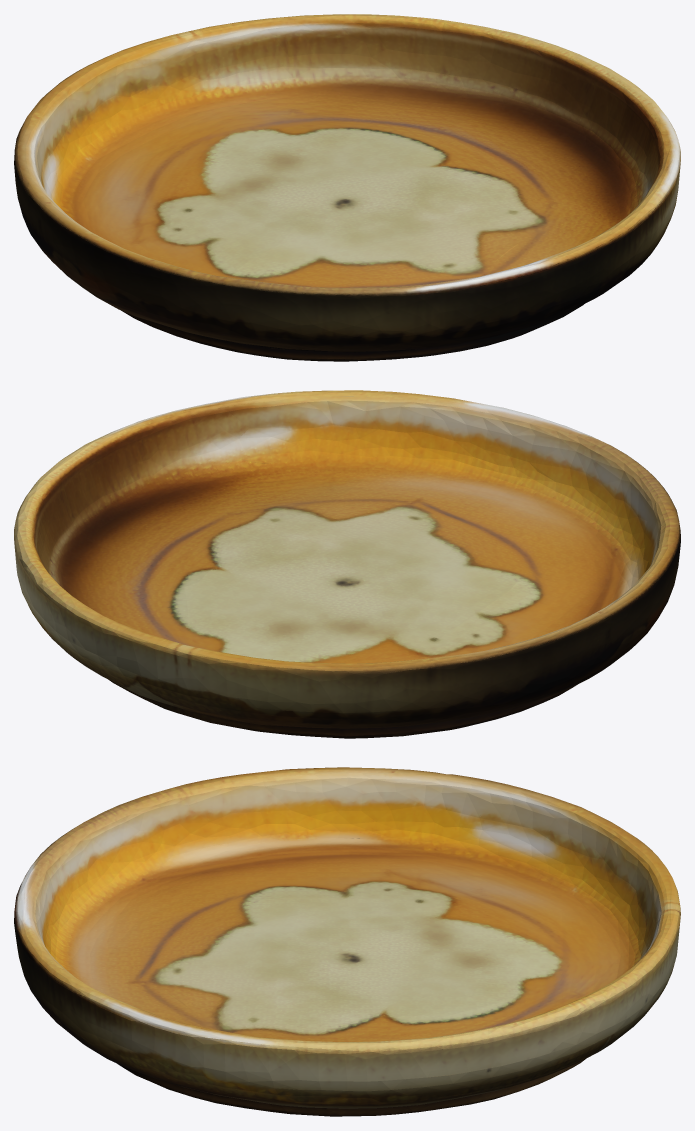
The model's file is ceramic-drip-tray-rustic.jpeg.glb.
3 renders of one model, top to bottom at view 1: azimuth 30°, elevation 25°; view 2: azimuth 150°, elevation 25°; view 3: azimuth 270°, elevation 25°, orthographic.
Visible parts, largest first — view 1: world; view 2: world; view 3: world.
Part boxes in pixels (left/top/right/bottom): world: left=14, top=14, right=680, bottom=361; world: left=14, top=390, right=680, bottom=738; world: left=14, top=767, right=680, bottom=1116.
Bounding box in the file's own units: 1 × 0.1594 × 0.9993.
1 material, 1 textured.
